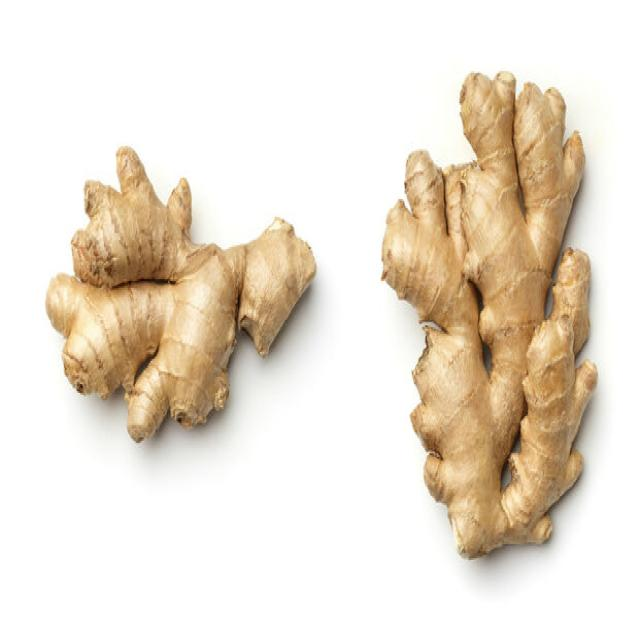Ginger: (380, 68, 598, 560), (45, 142, 316, 443)
